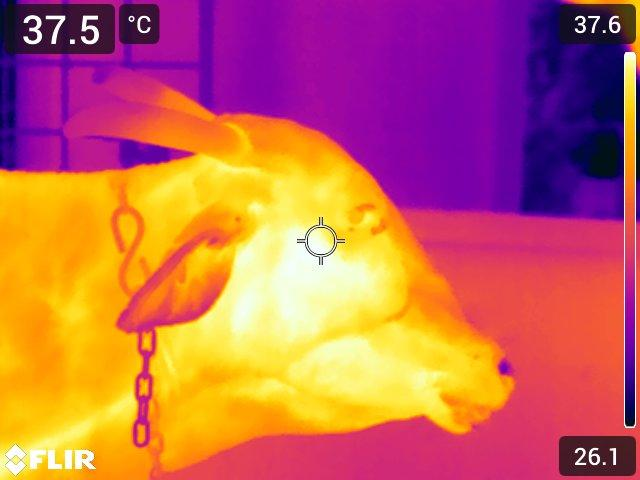ear: (114, 212, 239, 336)
eyes: (339, 196, 389, 241)
